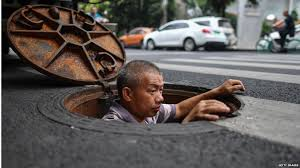Manhole-Open: (42, 49, 256, 141)
car: (139, 18, 235, 49), (198, 14, 243, 46), (117, 23, 155, 47)
human: (106, 57, 235, 130)
